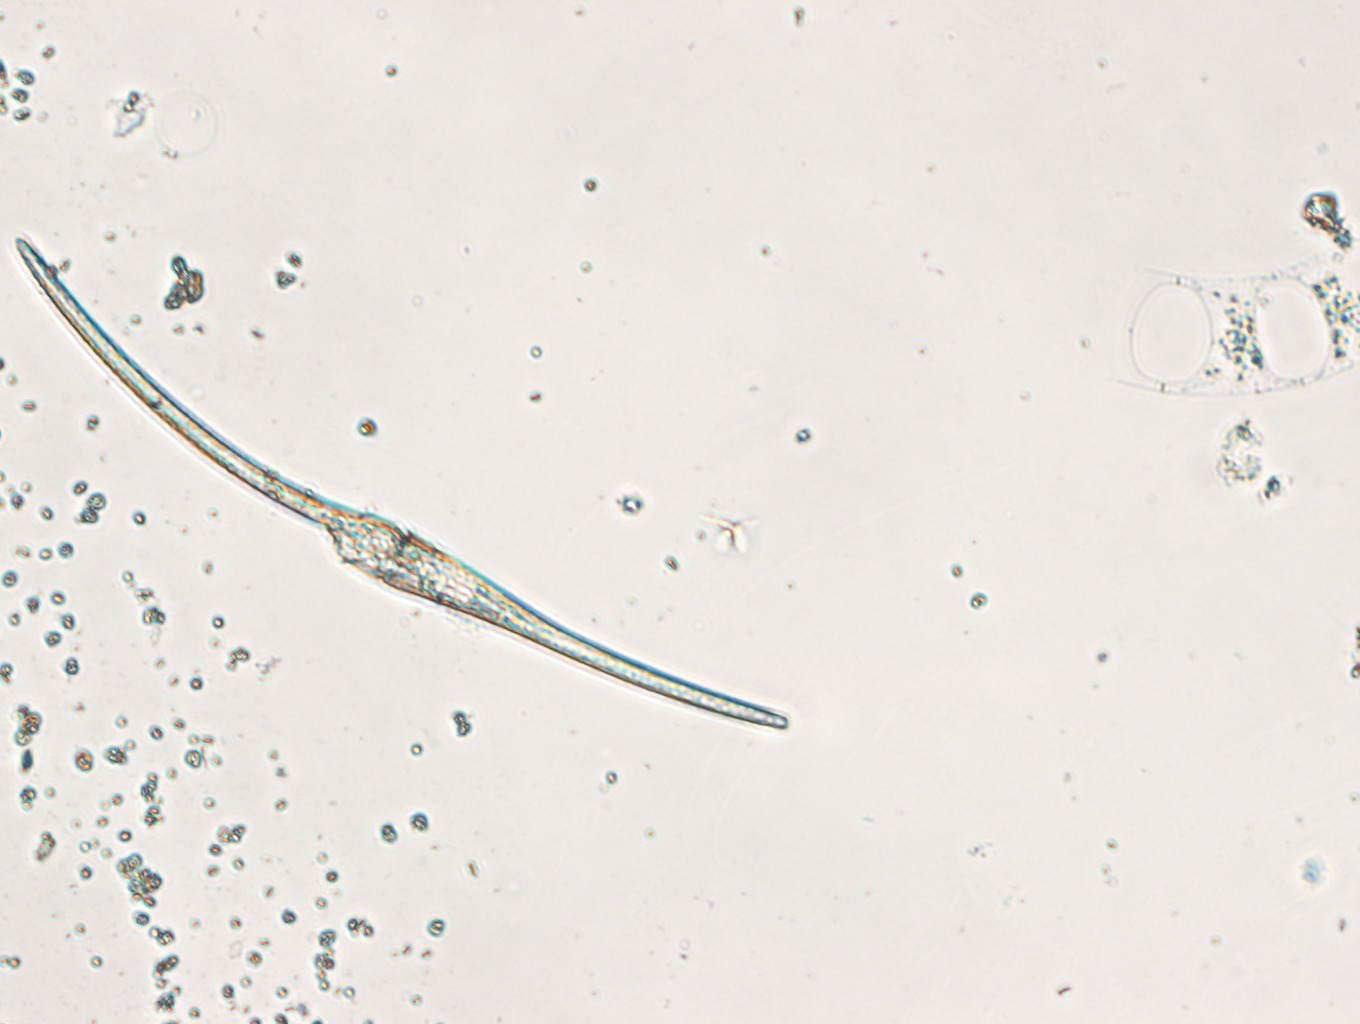ceratium fusus: (12, 231, 793, 730)
eucampia: (1115, 250, 1360, 400)
